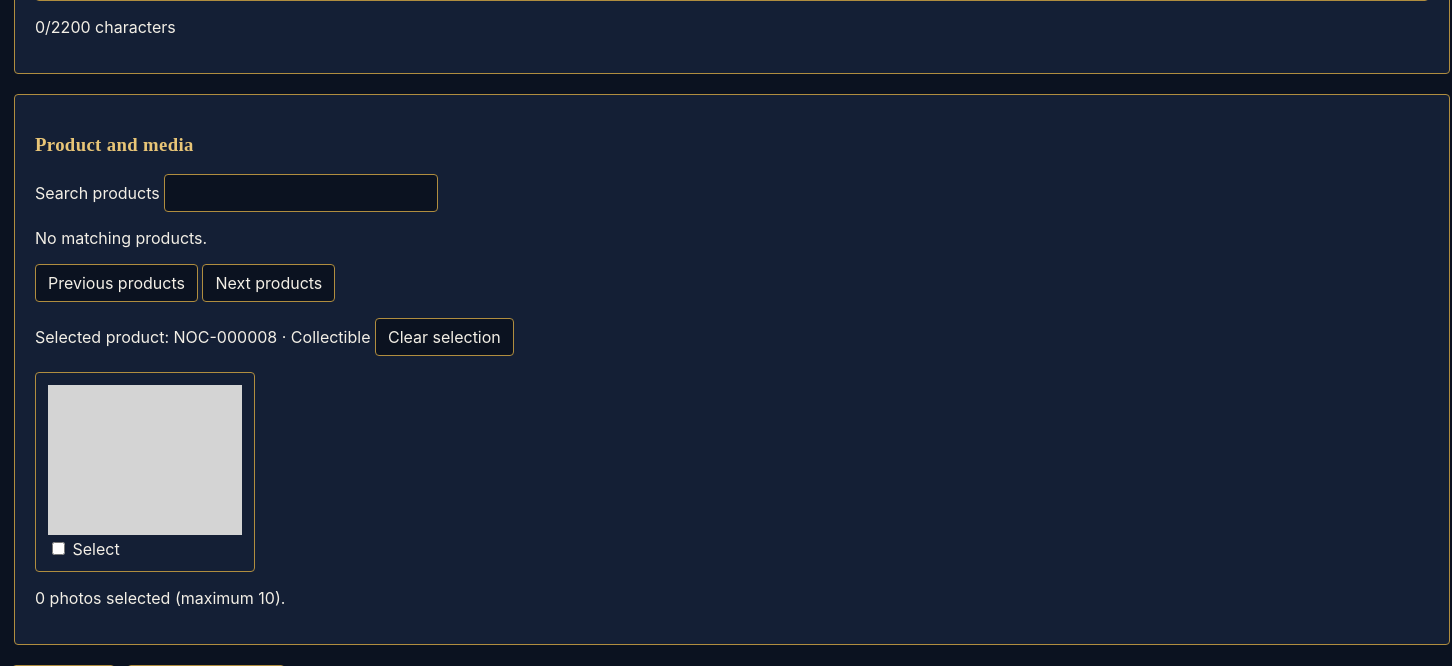
it: Social Manager › keeps the photo label and count in sync when selecting and deselecting
(page scrolled)
Expected: the label named "Select photo photo1" reads "Select", [72,539,120,559]
Expected: the text "0 photos selected (maximum 10)." is shown, [35,588,285,608]
Click the checkbox named "Select photo photo1" at (58, 549), box [52,542,65,555]
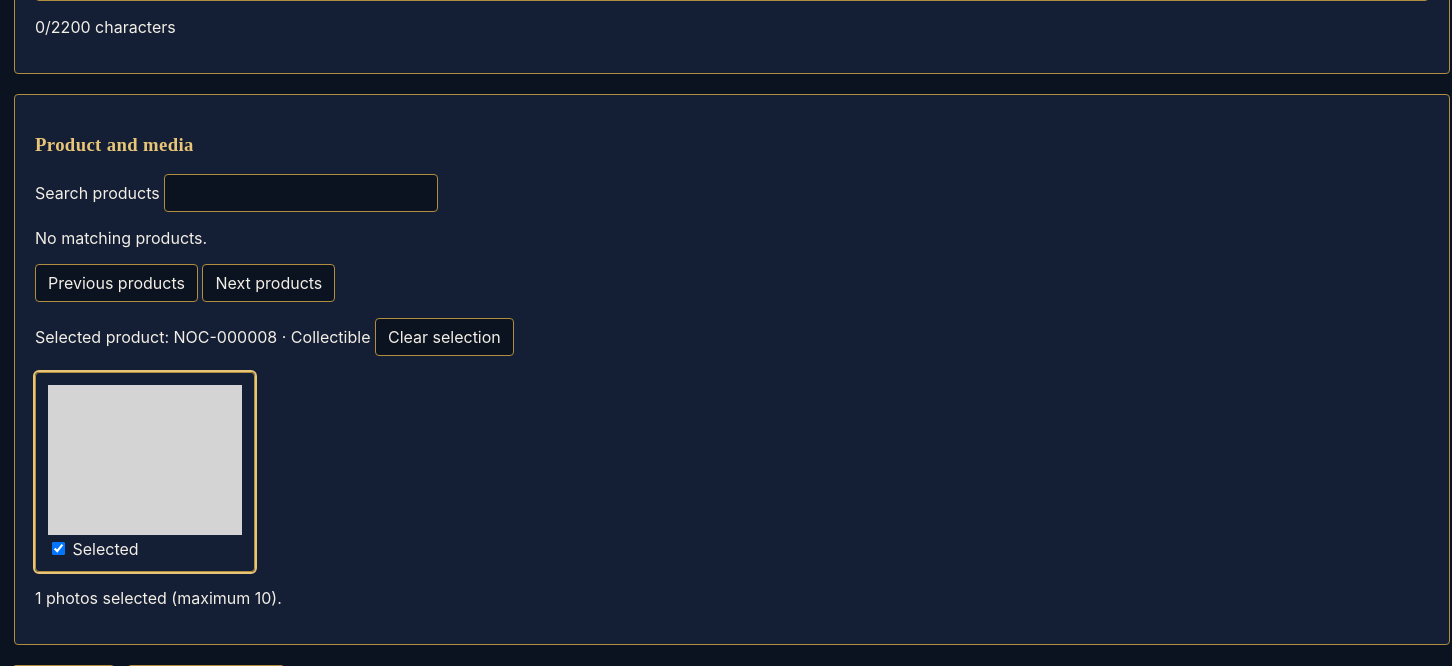
Result: the checkbox named "Select photo photo1" is checked
Result: the label named "Select photo photo1" reads "Selected" at [72,539,139,559]
Result: the text "1 photos selected (maximum 10)." is shown at [35,588,282,608]
Click the checkbox named "Select photo photo1" at (58, 549), box [52,542,65,555]
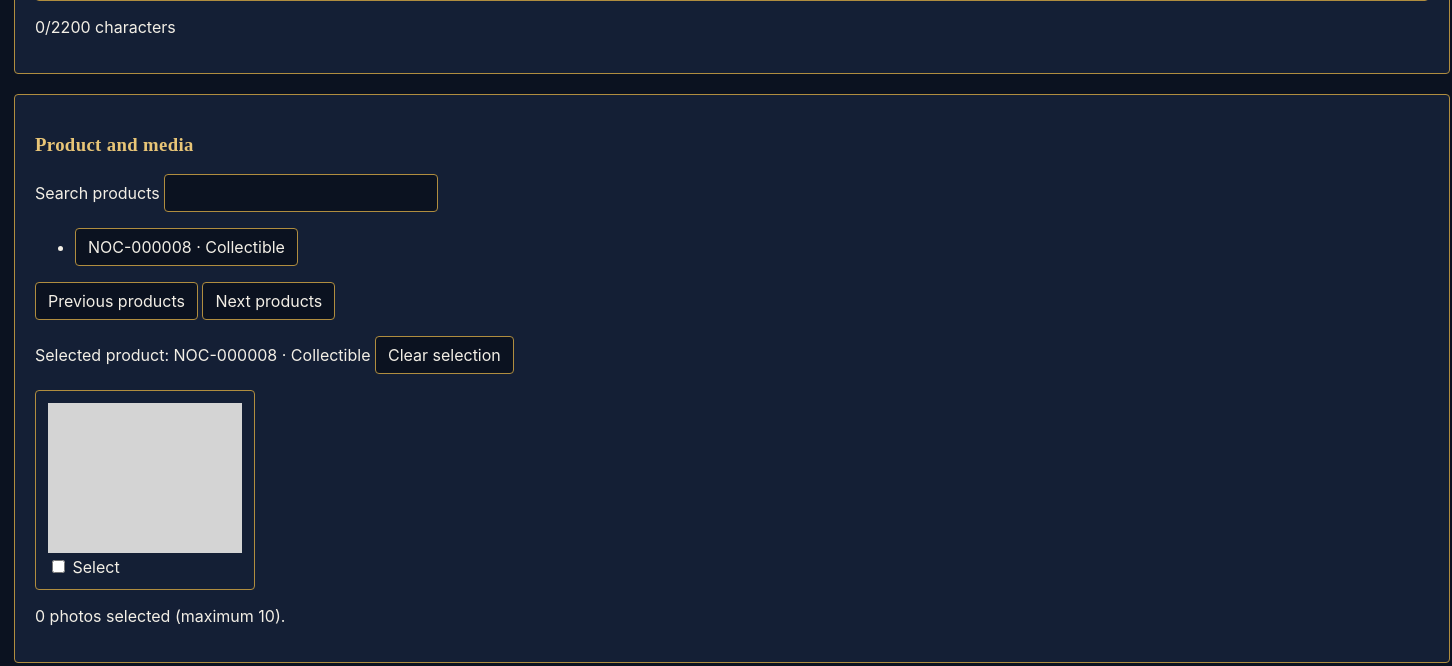
Result: the checkbox named "Select photo photo1" is not checked at [52,560,65,573]
Result: the label named "Select photo photo1" reads "Select" at [72,557,120,577]
Result: the text "0 photos selected (maximum 10)." is shown at [35,606,285,626]
